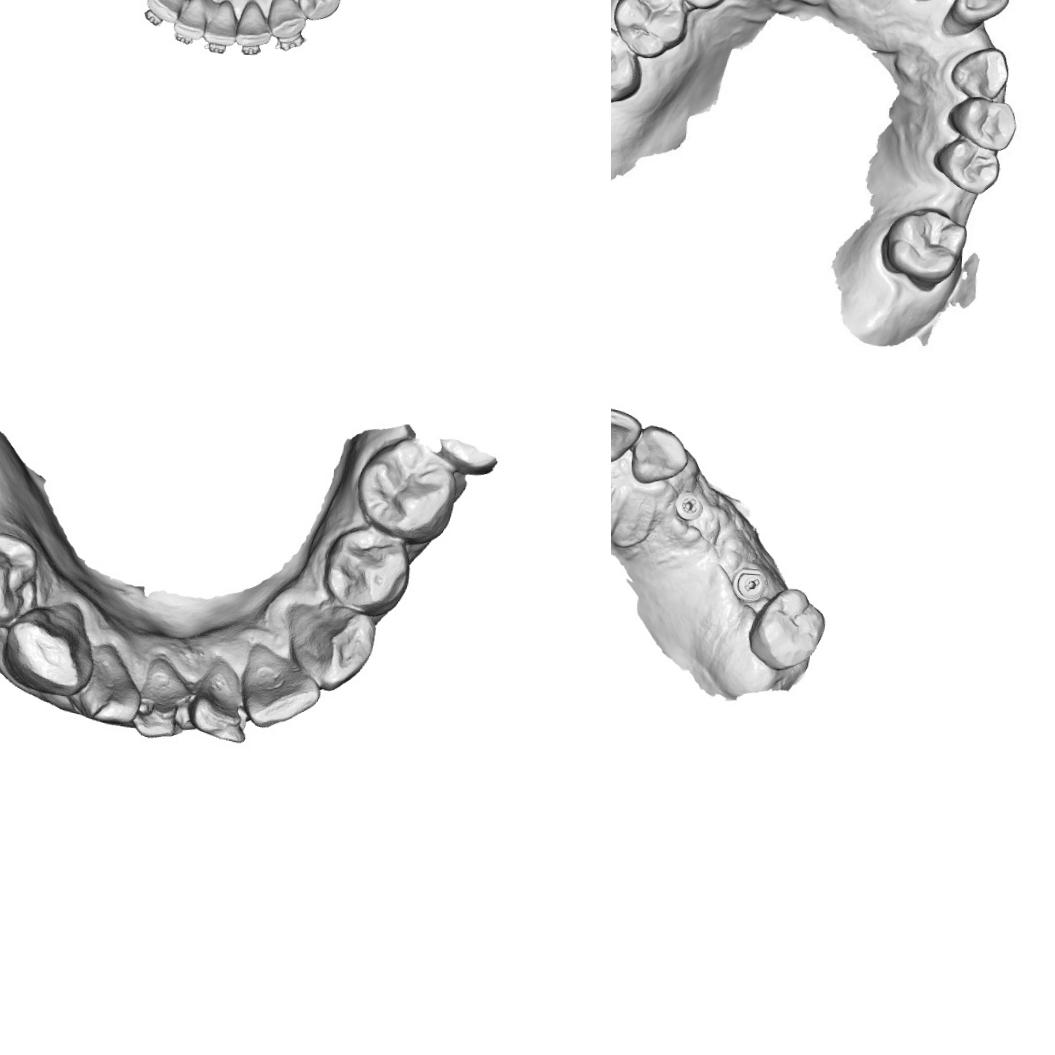canine: (284, 601, 380, 693), (3, 607, 95, 698), (628, 420, 691, 488), (948, 43, 1011, 100), (265, 0, 309, 41)
implant_minus: (730, 565, 768, 604)
implant_plus: (672, 488, 706, 522)
incisor: (241, 641, 327, 733), (187, 658, 252, 748), (134, 658, 202, 742), (76, 650, 146, 730), (939, 0, 1011, 40), (233, 0, 275, 50), (611, 405, 643, 465), (201, 0, 240, 49), (170, 0, 209, 44), (143, 0, 185, 27)
molar: (354, 440, 453, 538), (877, 204, 969, 294), (745, 587, 826, 674), (611, 0, 691, 62), (611, 19, 644, 105)
premolar: (317, 526, 416, 617), (944, 93, 1019, 152), (931, 134, 1001, 196), (0, 526, 41, 631), (294, 0, 343, 23)
